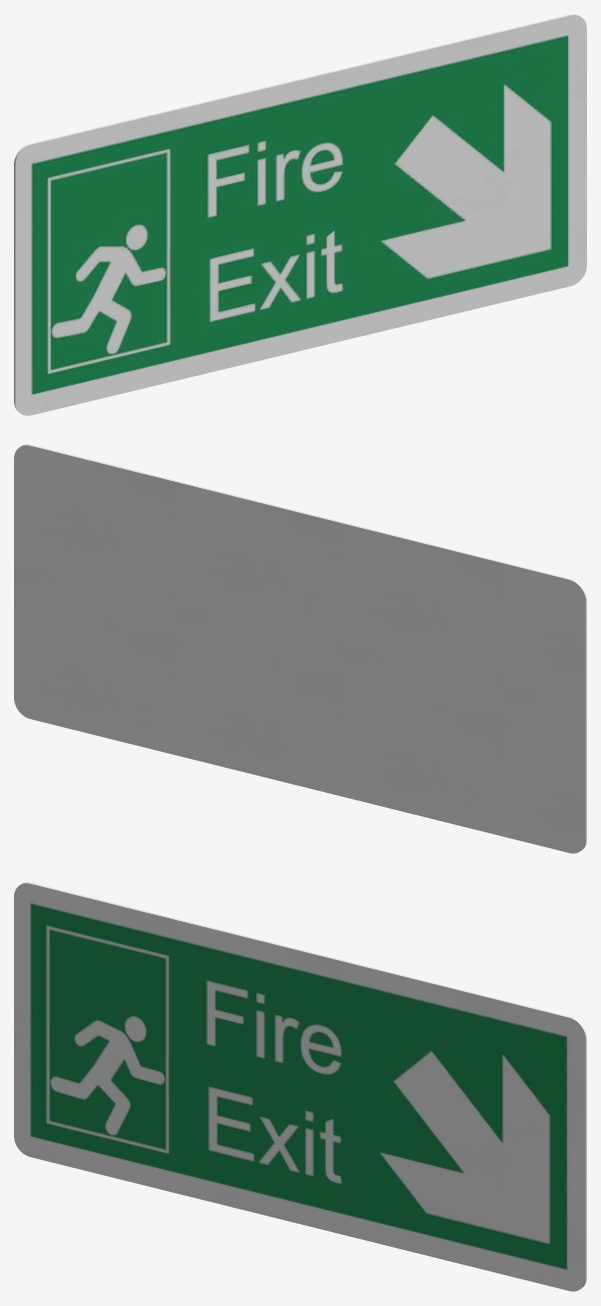
File: fire_exit_sign.glb
3 views of the same model, one above another, from view 1: azimuth 30°, elevation 25°; view 2: azimuth 150°, elevation 25°; view 3: azimuth 330°, elevation 25° (orthographic).
Parts seen in each view (by area): view 1: Plane; view 2: Plane; view 3: Plane.
Part boxes in pixels (left/top/right/bottom): Plane: left=14, top=14, right=586, bottom=415; Plane: left=14, top=444, right=586, bottom=853; Plane: left=14, top=882, right=586, bottom=1291.
Size of the model in its own units: 0.3947 by 0.1794 by 0.0046.
Materials: 1 (1 with a texture image).
